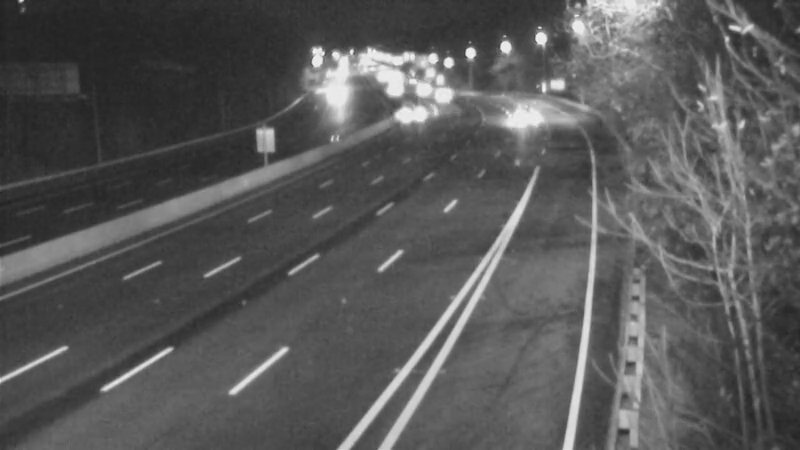vehicle: (400, 64, 450, 114), (368, 65, 418, 115), (415, 71, 465, 121), (507, 90, 557, 140), (390, 83, 440, 133)
